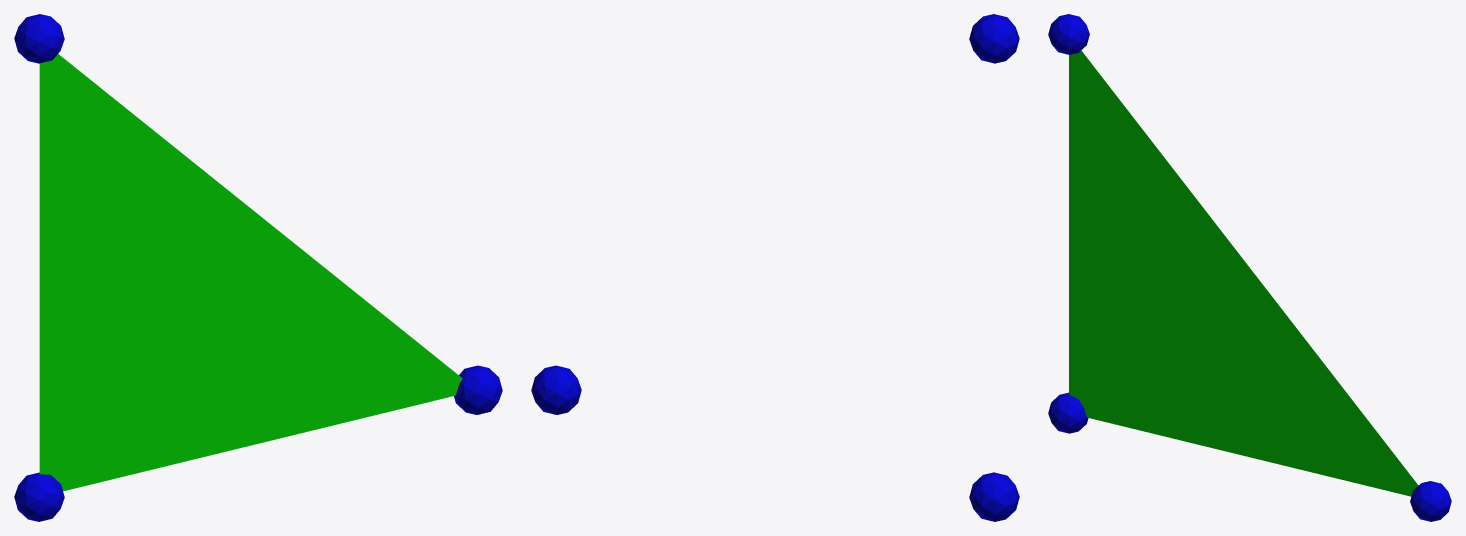
The picture shows the model from 3 angles, left to right: view 1: azimuth 30°, elevation 25°; view 2: azimuth 150°, elevation 25°; view 3: azimuth 330°, elevation 25°; orthographic projection. The views are drawn at different scales.
Parts seen in each view (by area): view 1: surface_0, point_2, point_0, point_1; view 2: point_2, point_0, point_1; view 3: surface_0, point_1, point_2, point_0.
Part boxes in pixels (x1,y1,x2,y2): surface_0: (39,54,462,491); point_2: (14,14,64,63); point_0: (14,472,64,521); point_1: (454,365,502,414); point_2: (969,14,1019,63); point_0: (969,472,1019,521); point_1: (531,365,581,414); surface_0: (1069,50,1418,496); point_1: (1410,481,1451,521); point_2: (1048,14,1089,54); point_0: (1048,392,1088,433).
Bounding box in the file's own units: 1.1 × 1.1 × 0.1.
